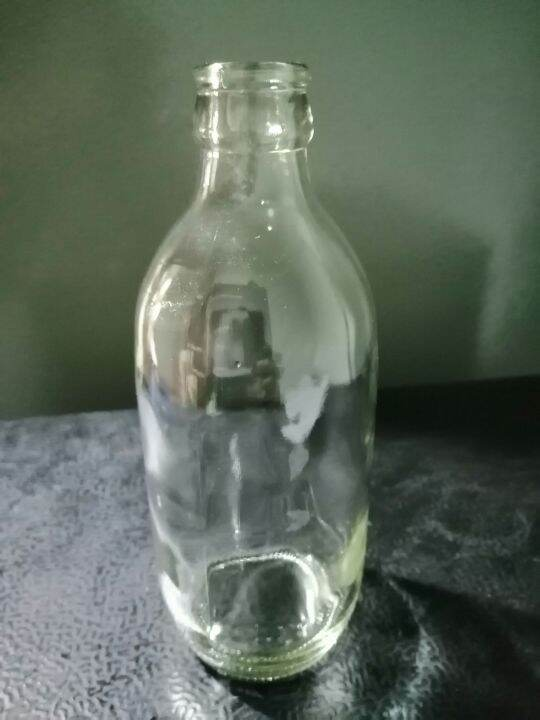glass_bottle: (117, 46, 393, 692)
